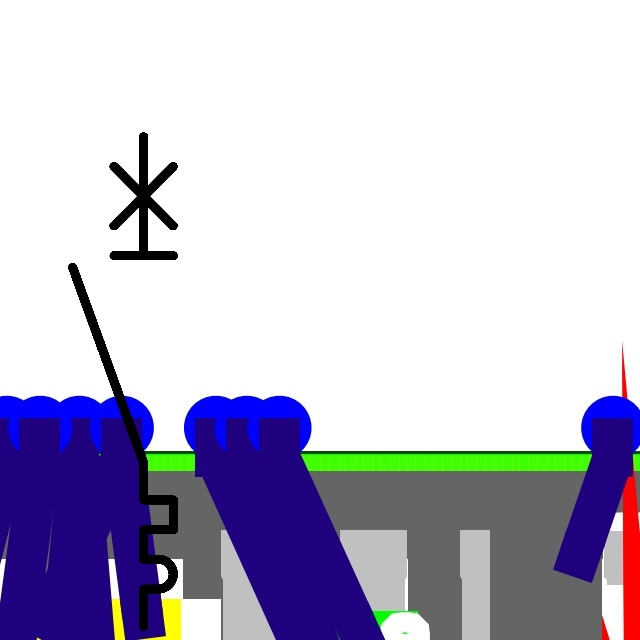interruptor_termomagnetico: (60, 124, 186, 639)
